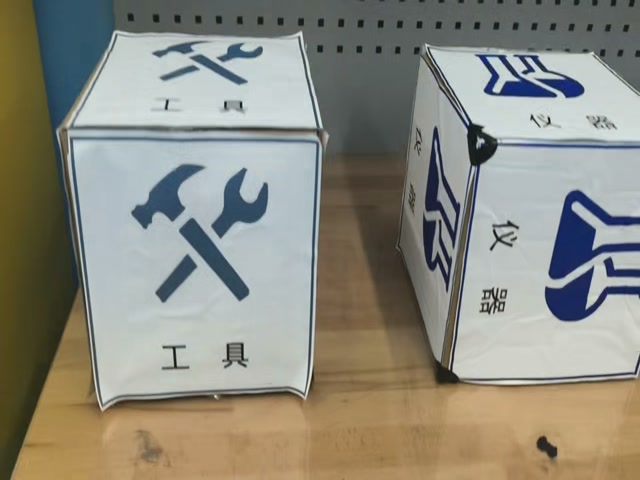Cube_ins: (424, 48, 640, 150)
Cube_tool: (60, 34, 312, 144)
